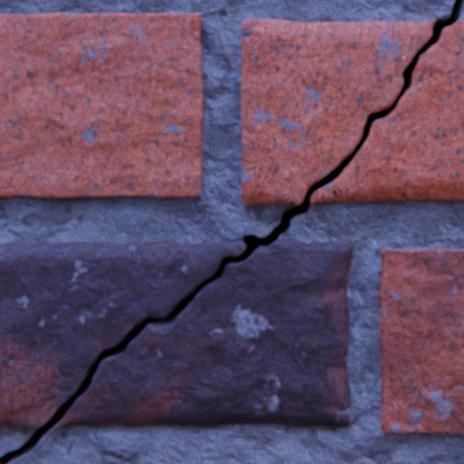brick: (0, 14, 203, 198), (379, 248, 463, 432)
broken_brick: (57, 240, 352, 425), (0, 241, 245, 426), (241, 20, 437, 203), (311, 21, 463, 203)
crack: (0, 0, 463, 463)
